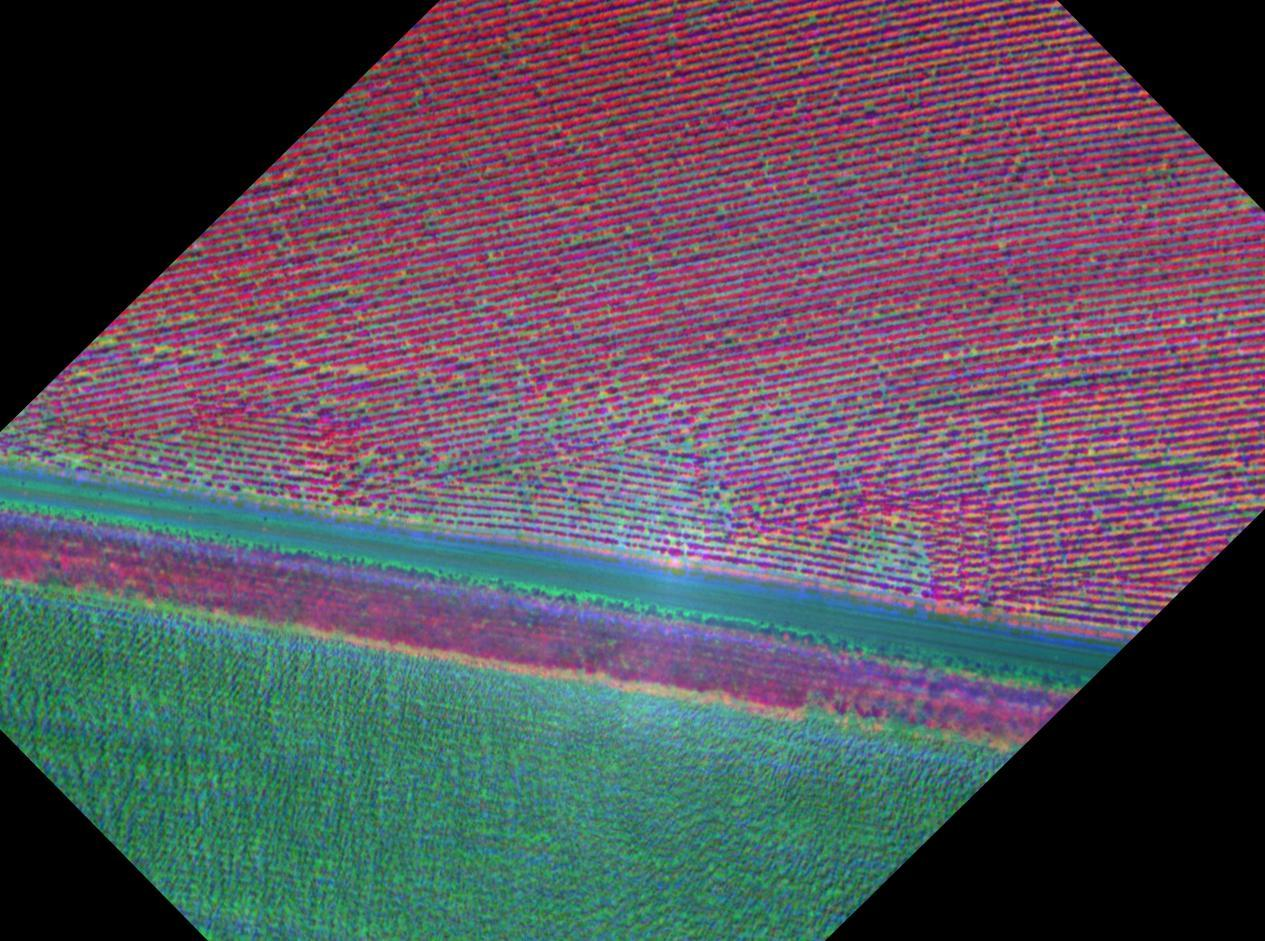dc: (159, 345, 165, 353), (945, 355, 950, 360), (353, 367, 358, 372), (1184, 503, 1189, 508)
